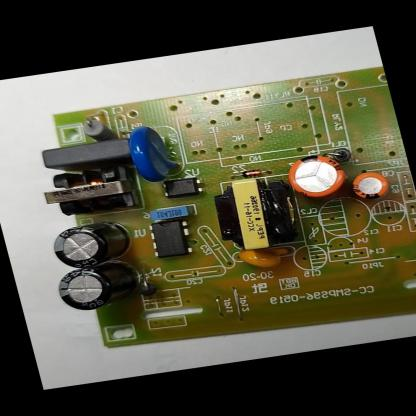Cap1: (280, 150, 353, 201)
Cap2: (346, 168, 392, 203)
Cap3: (48, 219, 137, 273)
Cap4: (52, 260, 145, 316)
MOSFET: (144, 218, 198, 260)
Mov: (123, 121, 186, 186)
Resistor: (79, 114, 118, 143)
Transformer: (206, 173, 301, 254), (34, 160, 139, 220)
